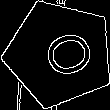O_W: (27, 24, 92, 84)
